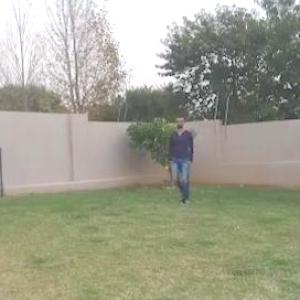follow: (172, 115, 194, 204)
